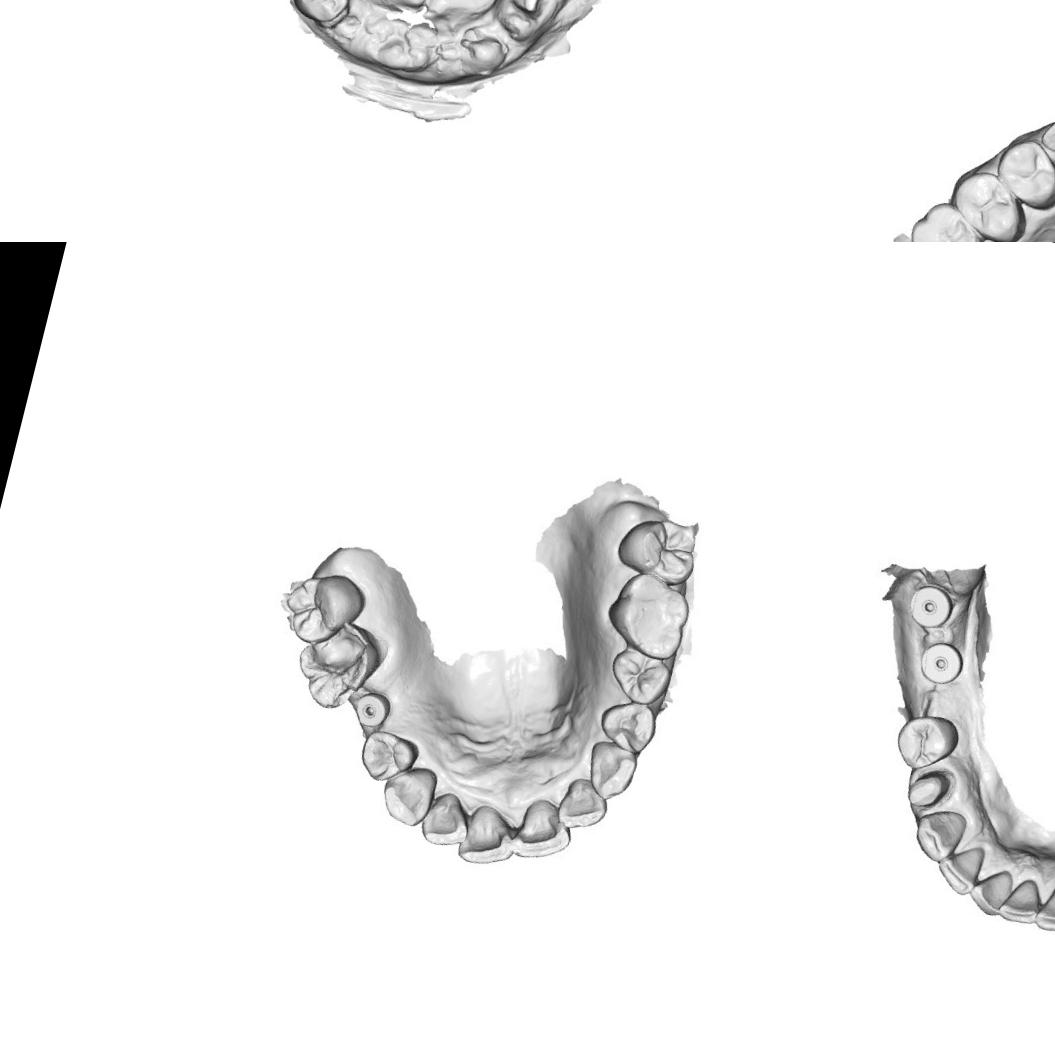canine: (372, 754, 442, 833), (902, 801, 970, 869), (584, 740, 638, 800), (1036, 107, 1055, 183)
crown: (904, 766, 946, 812)
implant: (915, 636, 967, 688), (906, 579, 955, 629), (350, 693, 394, 732)
incisor: (452, 804, 520, 866), (510, 797, 575, 856), (420, 789, 473, 847), (556, 776, 609, 831), (937, 841, 989, 893), (1000, 875, 1048, 928), (972, 866, 1022, 916), (1038, 875, 1055, 935)
molar: (606, 569, 698, 664), (292, 618, 382, 713), (618, 506, 706, 584), (274, 566, 358, 646), (906, 200, 988, 242)
premolar: (952, 168, 1026, 240), (993, 134, 1055, 216), (888, 707, 958, 776), (603, 643, 668, 706), (356, 728, 416, 785), (600, 695, 656, 752), (286, 0, 357, 28)
